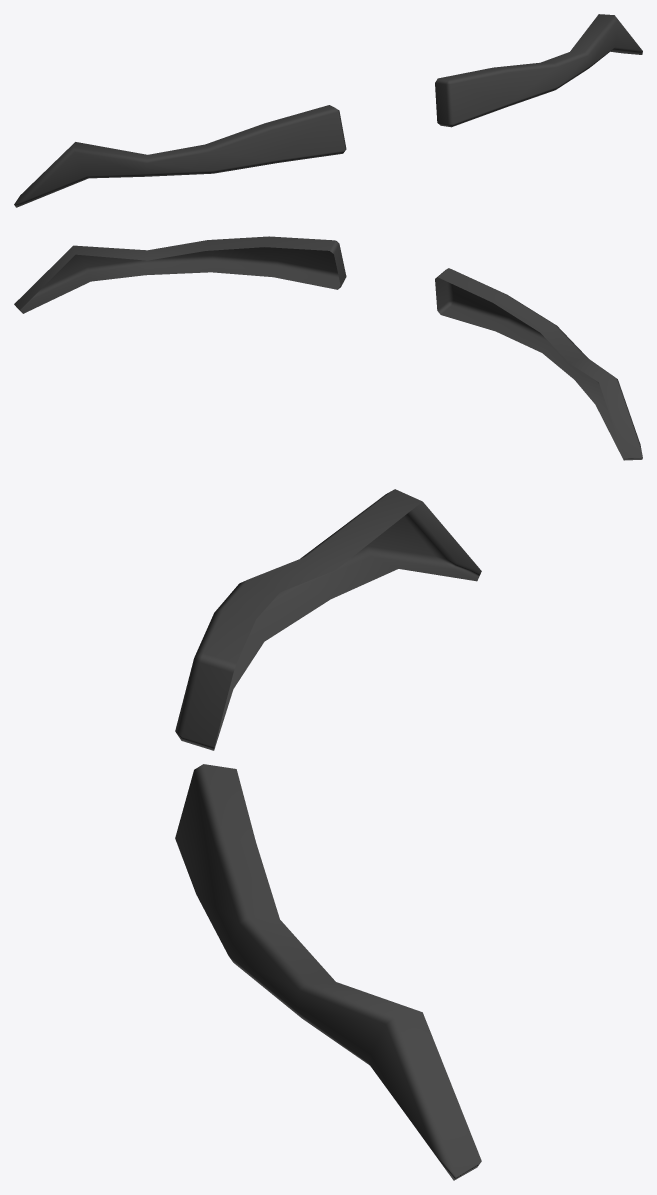
The model's file is Eyebrow_002.glb.
3 renders of one model, top to bottom at view 1: azimuth 30°, elevation 25°; view 2: azimuth 150°, elevation 25°; view 3: azimuth 270°, elevation 25°, orthographic. The views are drawn at different scales.
Visible parts, largest first — view 1: Eyebrow_002; view 2: Eyebrow_002; view 3: Eyebrow_002.
Part boxes in pixels (x1,y1,x2,y2): Eyebrow_002: (14, 14, 642, 207); Eyebrow_002: (14, 236, 642, 460); Eyebrow_002: (175, 489, 481, 1180).
Bounding box in the file's own units: 0.2994 × 0.0379 × 0.0632.
Materials: 1 (1 with a texture image).
